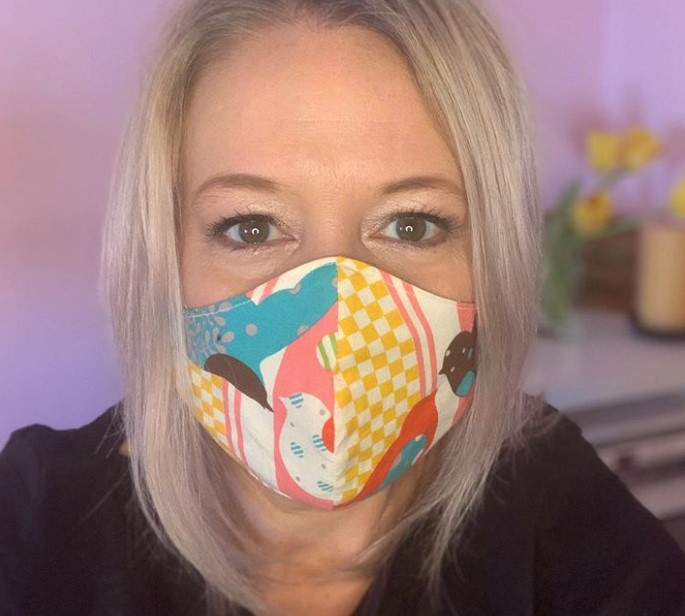face_with_mask: (147, 5, 523, 516)
